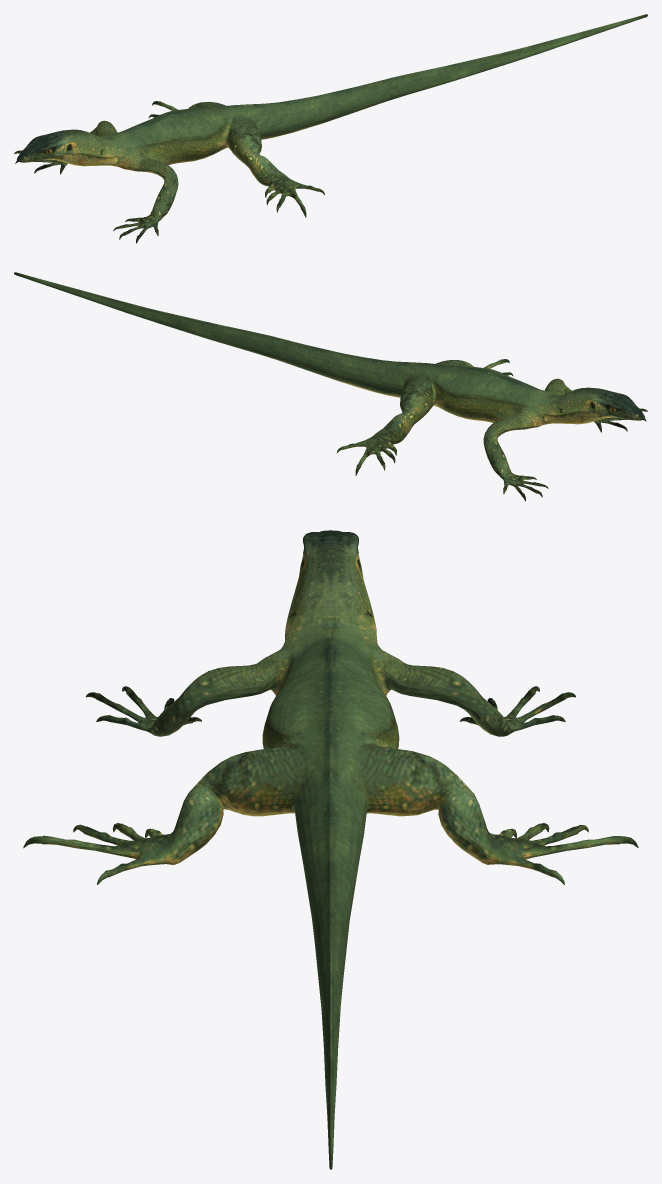
Rendered from Lizard_Idle-bl.obj.
3 views of the same model, one above another, from view 1: azimuth 30°, elevation 25°; view 2: azimuth 150°, elevation 25°; view 3: azimuth 270°, elevation 25° (orthographic). The views are drawn at different scales.
Visible parts, largest first — view 1: Lizard.001; view 2: Lizard.001; view 3: Lizard.001.
Part boxes in pixels (<box>): Lizard.001: <box>14,14,647,243</box>; Lizard.001: <box>14,272,647,501</box>; Lizard.001: <box>23,530,638,1169</box>.
Bounding box in the file's own units: 12.57 × 1.4 × 5.31.
